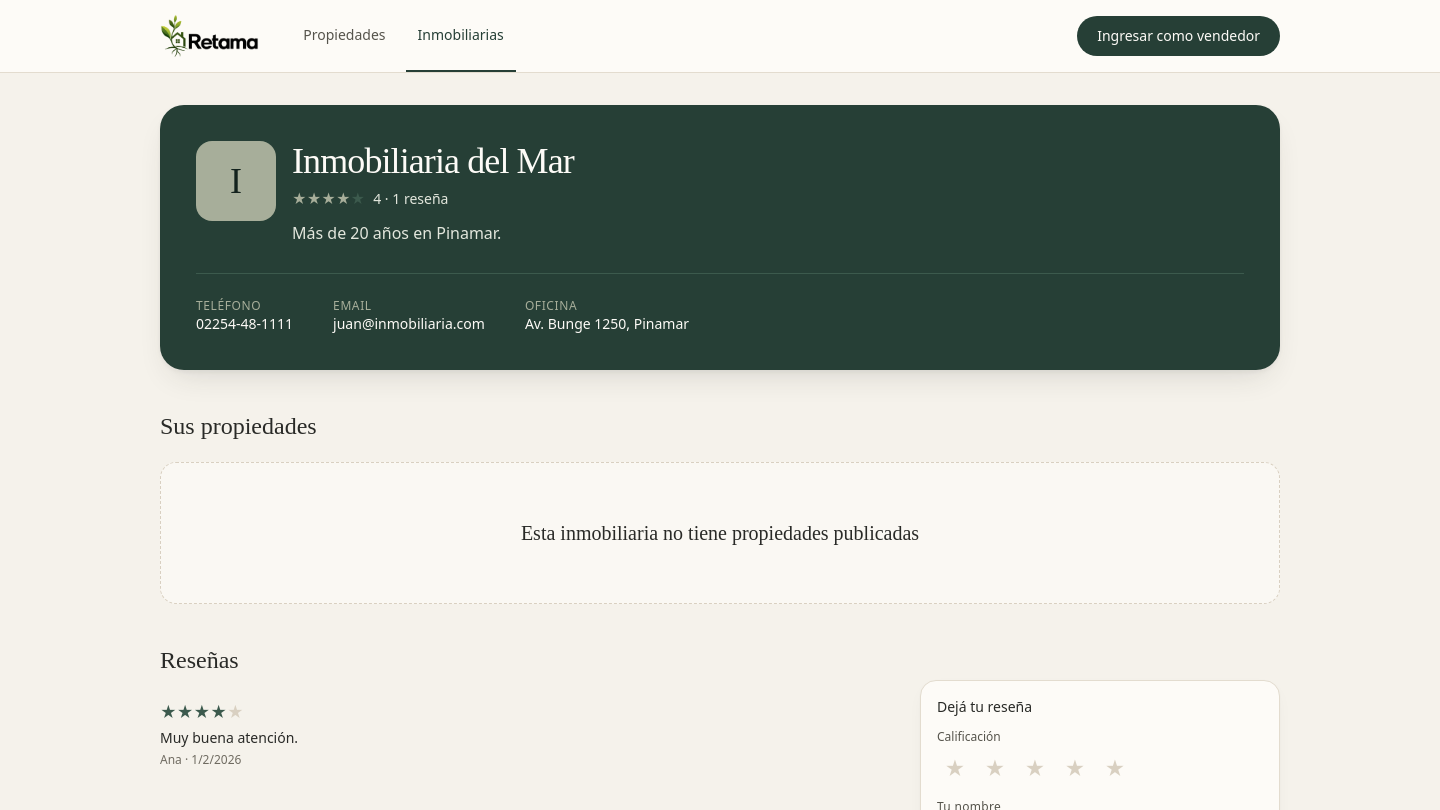
sitio de la inmobiliaria y reseñas › una reseña nueva aparece en el listado y actualiza el promedio sin recargar
Expected: the text "4 · 1 reseña" is shown, [373,189,448,209]
Click the radio button named "2 estrellas" at (995, 769), box [977,751,1013,787]
(page scrolled)
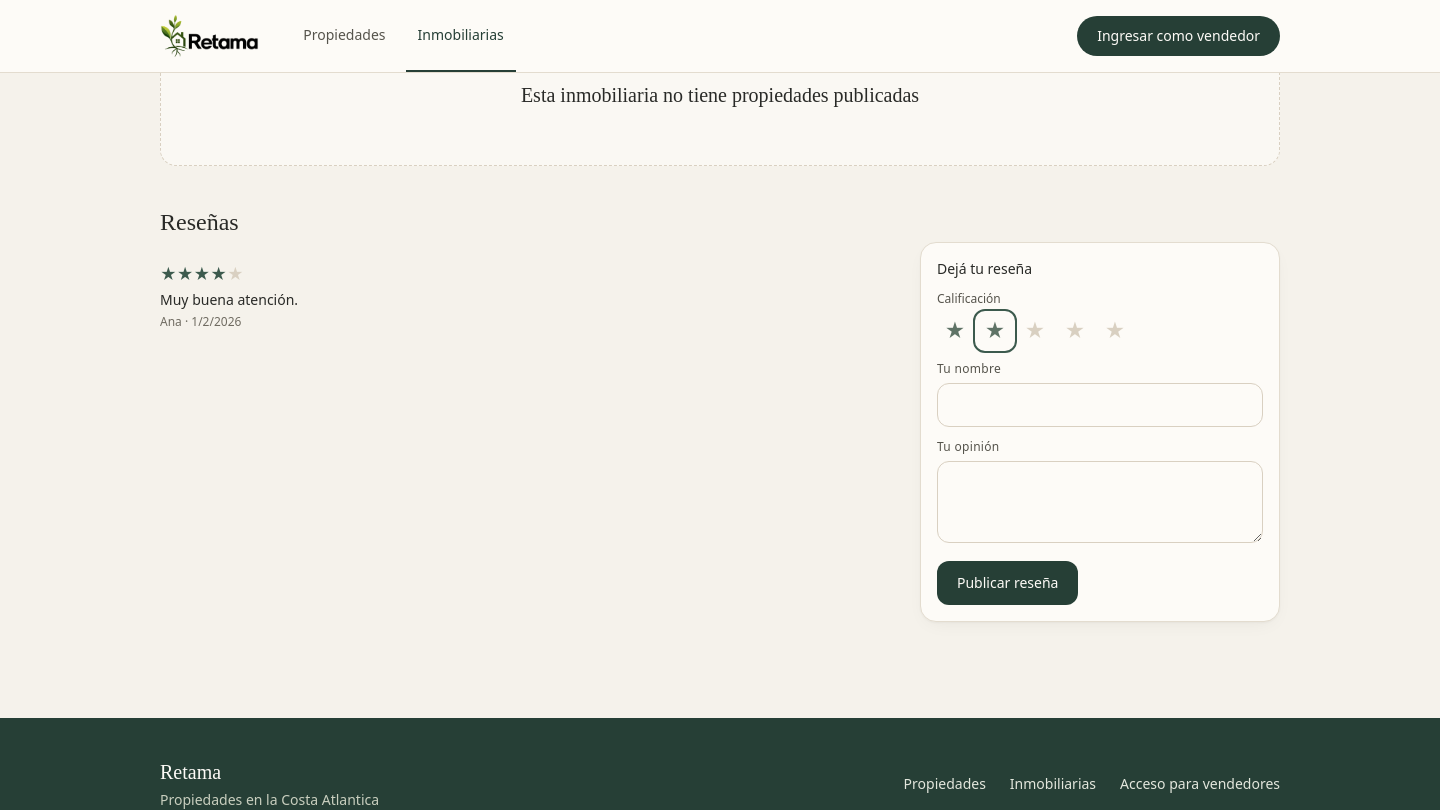
Type "Pedro" into the field labelled "Tu nombre" at (1100, 405), box [937,383,1263,427]
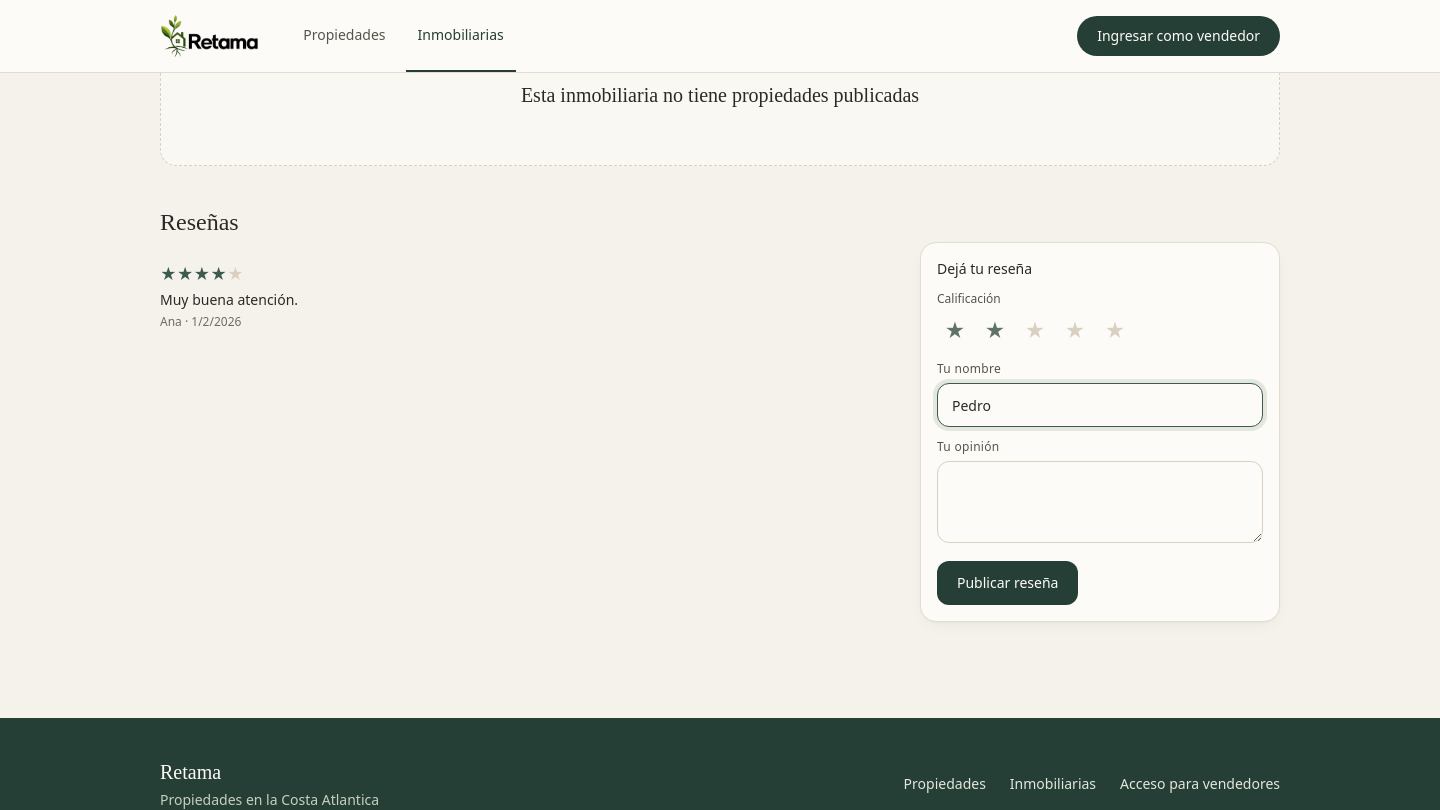
Type "Tardaron en responder." into the text box labelled "Tu opinión" at (1100, 502), box [937,461,1263,543]
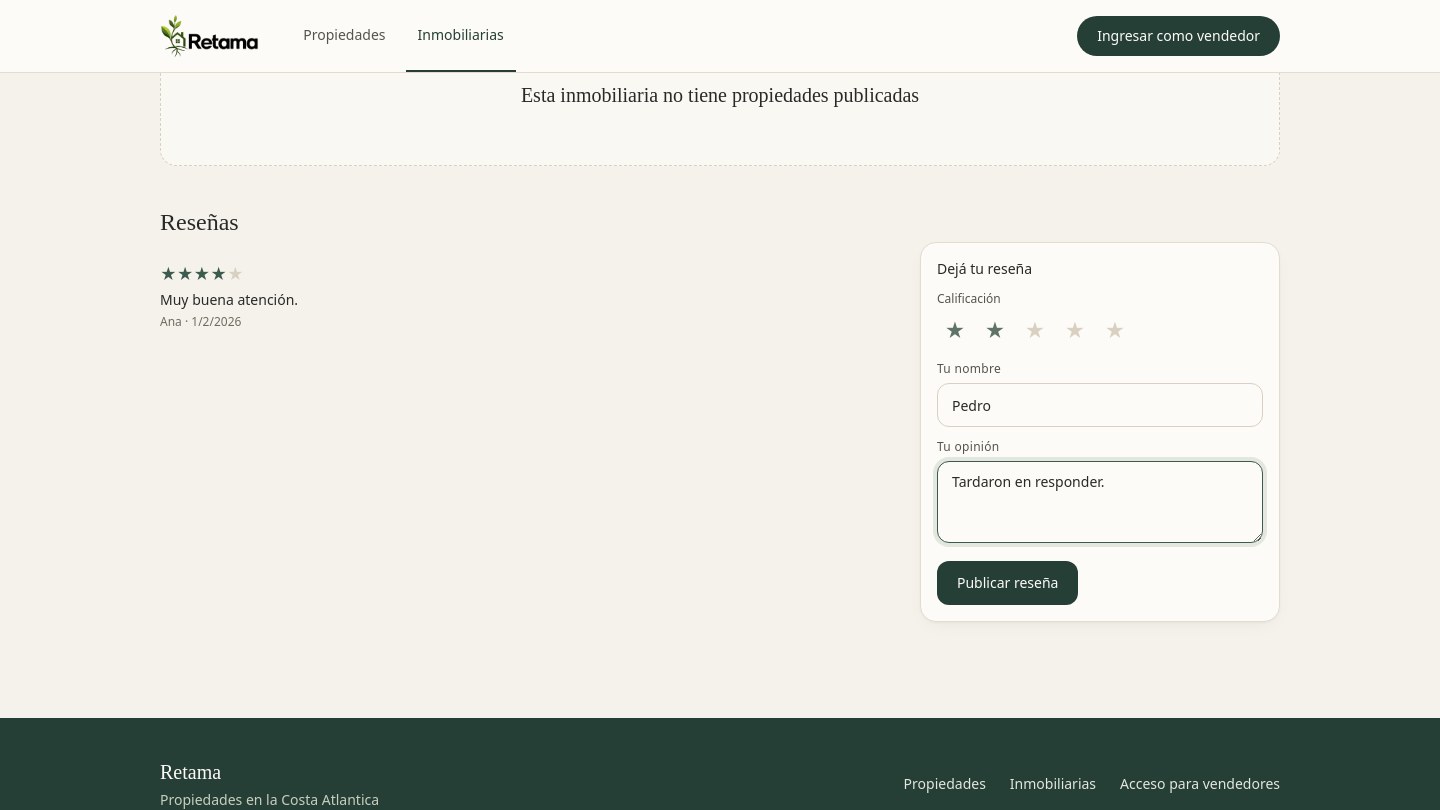
Click the button "Publicar reseña" at (1008, 583), box [937,561,1078,605]
(page scrolled)
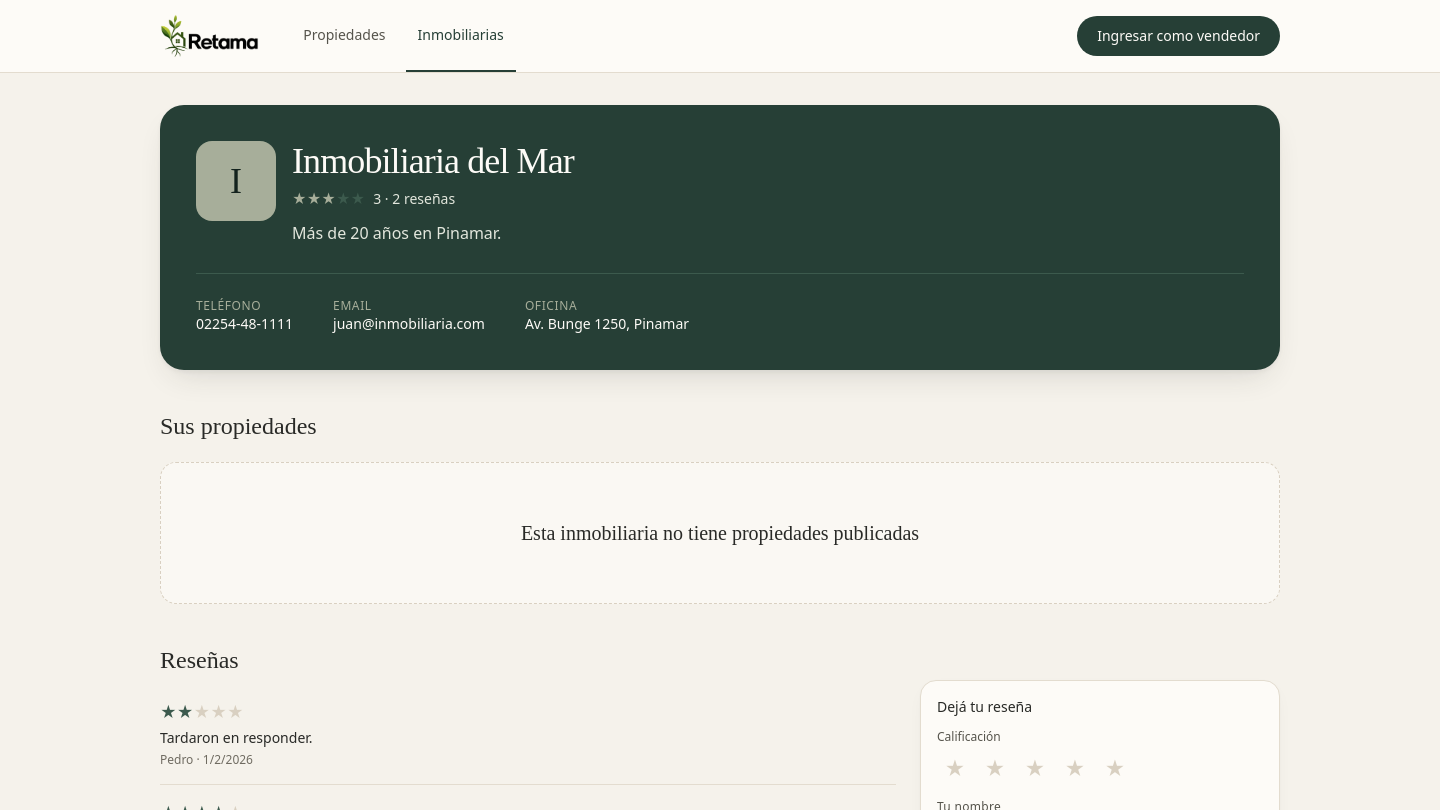
Expected: the text "Tardaron en responder." is shown, [160,728,313,747]
Expected: the text "3 · 2 reseñas" is shown, [373,189,455,209]
